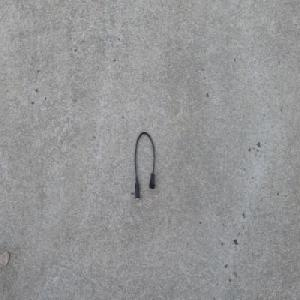Wire: (134, 130, 156, 201)
